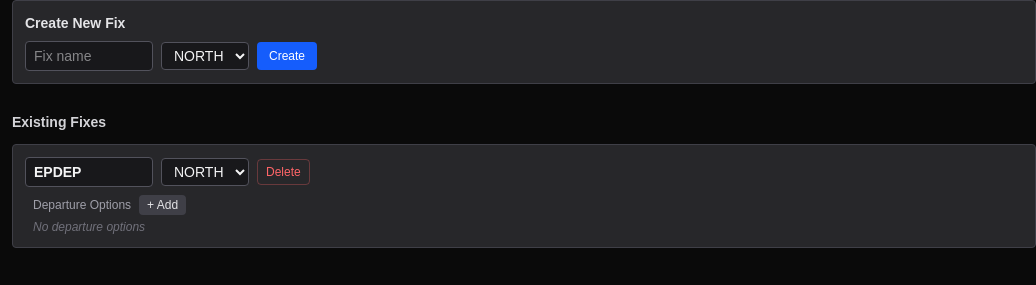
Test: FixEditor › shows error on duplicate fix name
Type "epdep" into the field named "New fix name".
click(89, 56); type("epdep")  # box [25, 41, 153, 71]
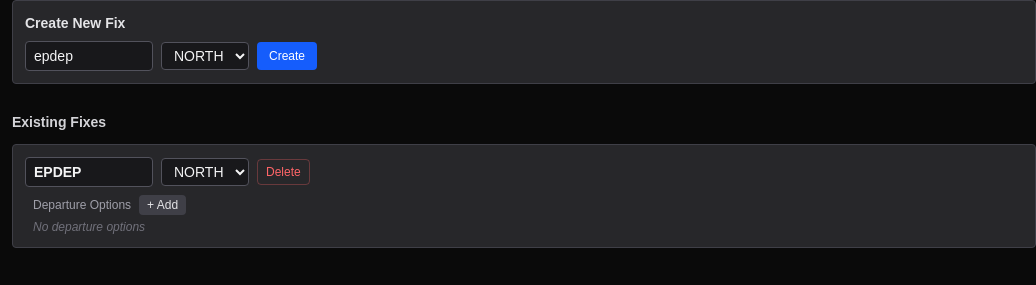
Click the button "Create".
click(287, 56)  # box [257, 42, 317, 70]
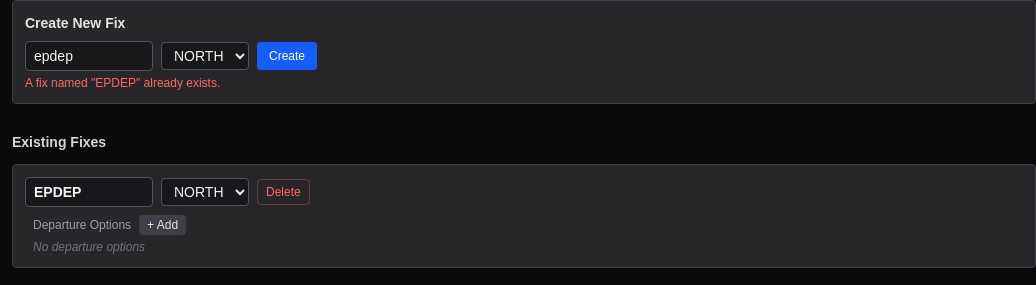
Now the text "A fix named \"EPDEP\" already exists." is shown, box [25, 76, 220, 90]
